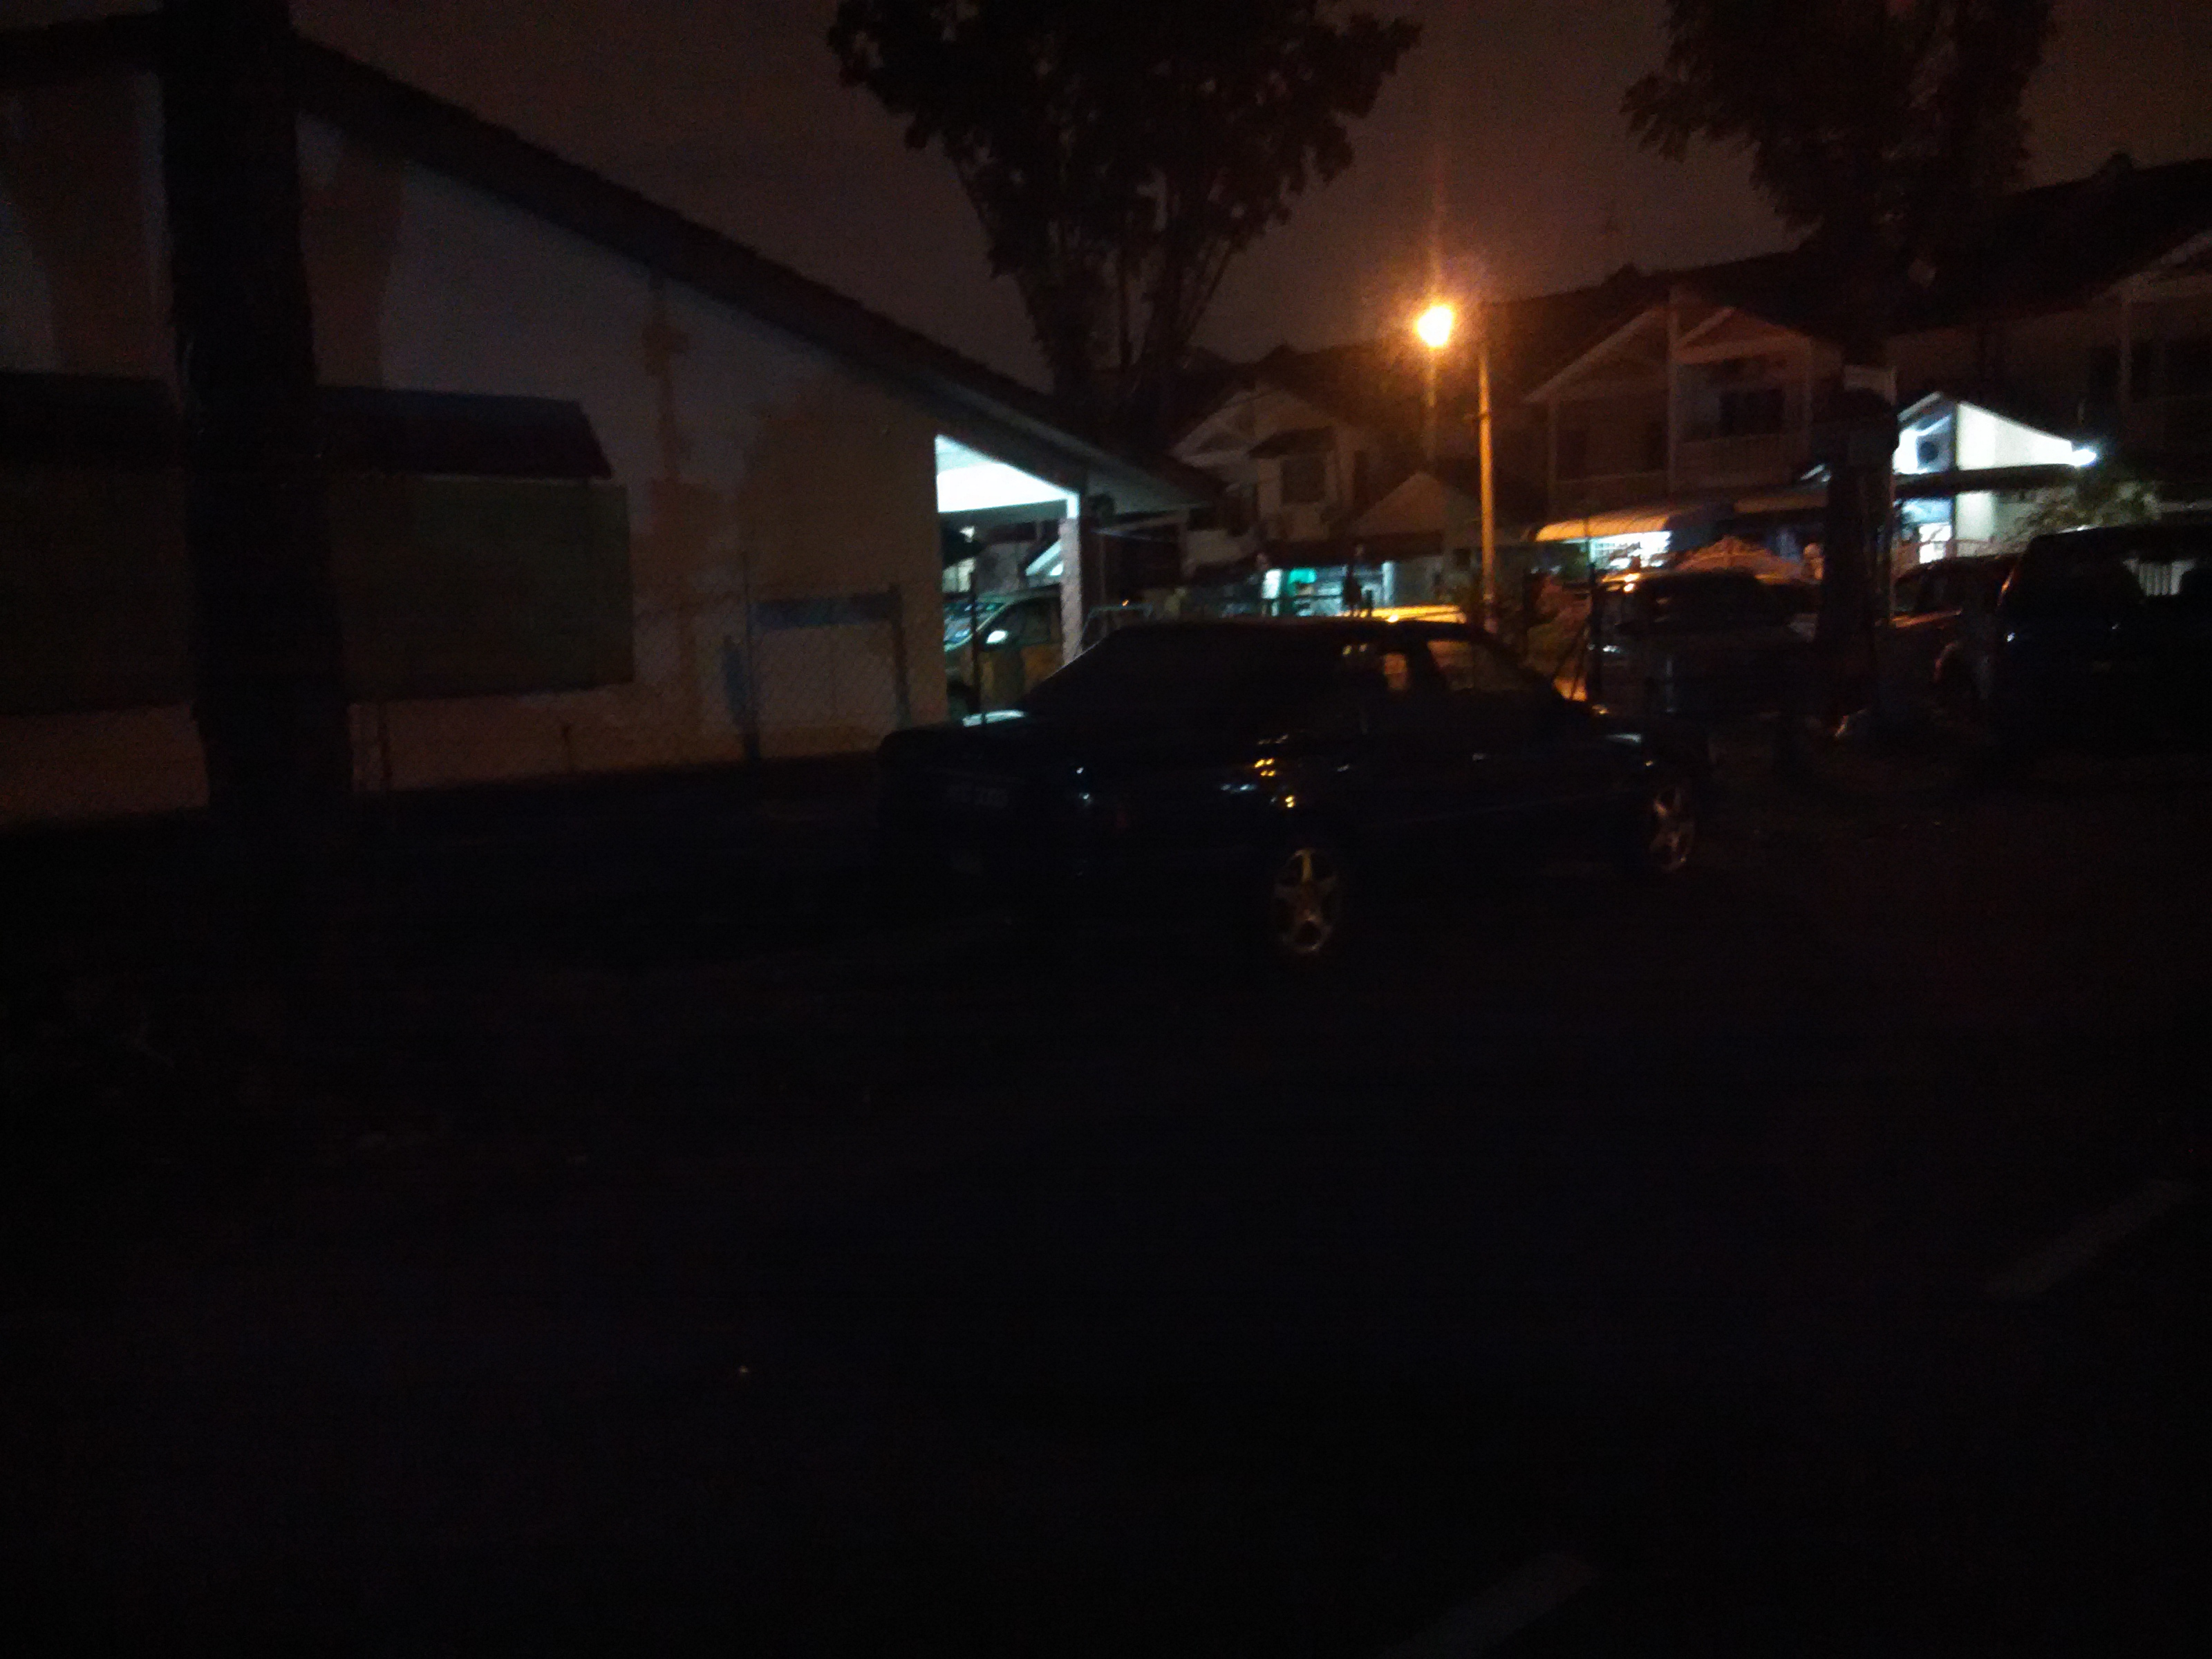car: (1561, 549, 1846, 746)
